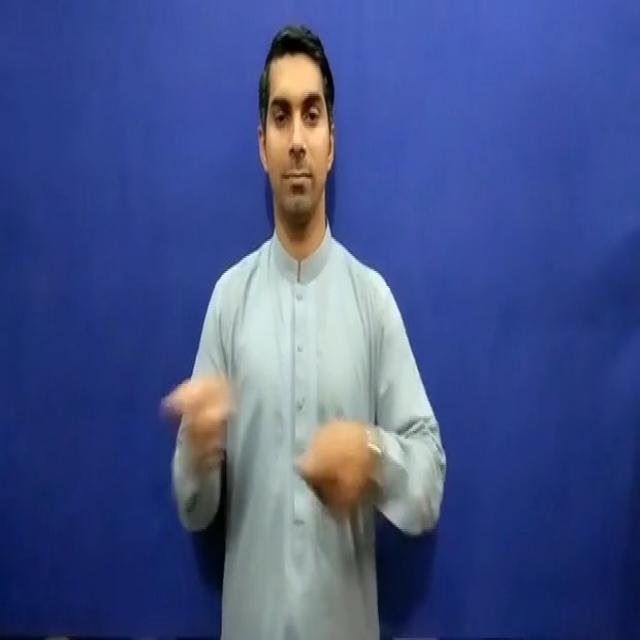manager: (158, 362, 396, 545)
